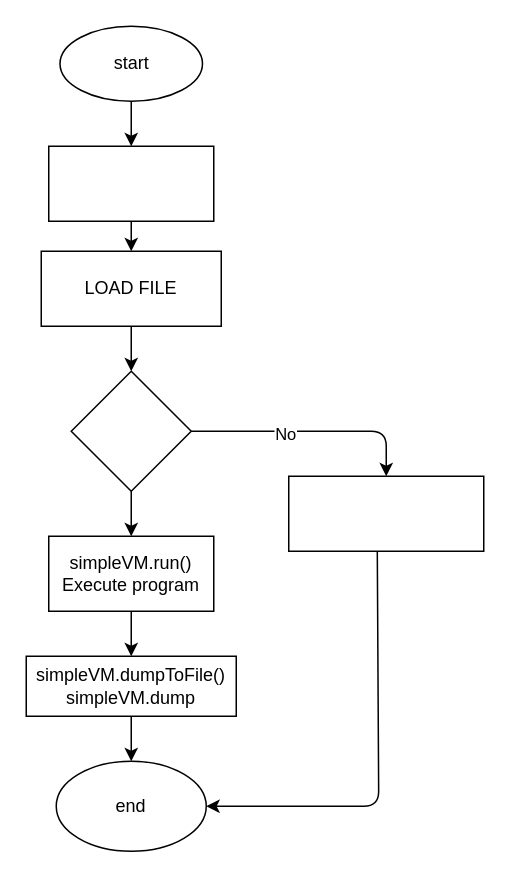
Image size: 510x878. Some labels were removed from this diagram. The box of each missing label's shape, as (x1, y1, x2, y2) in pixels:
ERROR: Faild Not Found: (287, 475, 484, 551)
INIT VM: (47, 145, 214, 221)
SUCCESS: (70, 370, 191, 491)
